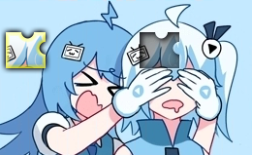gap: (139, 32, 179, 68)
